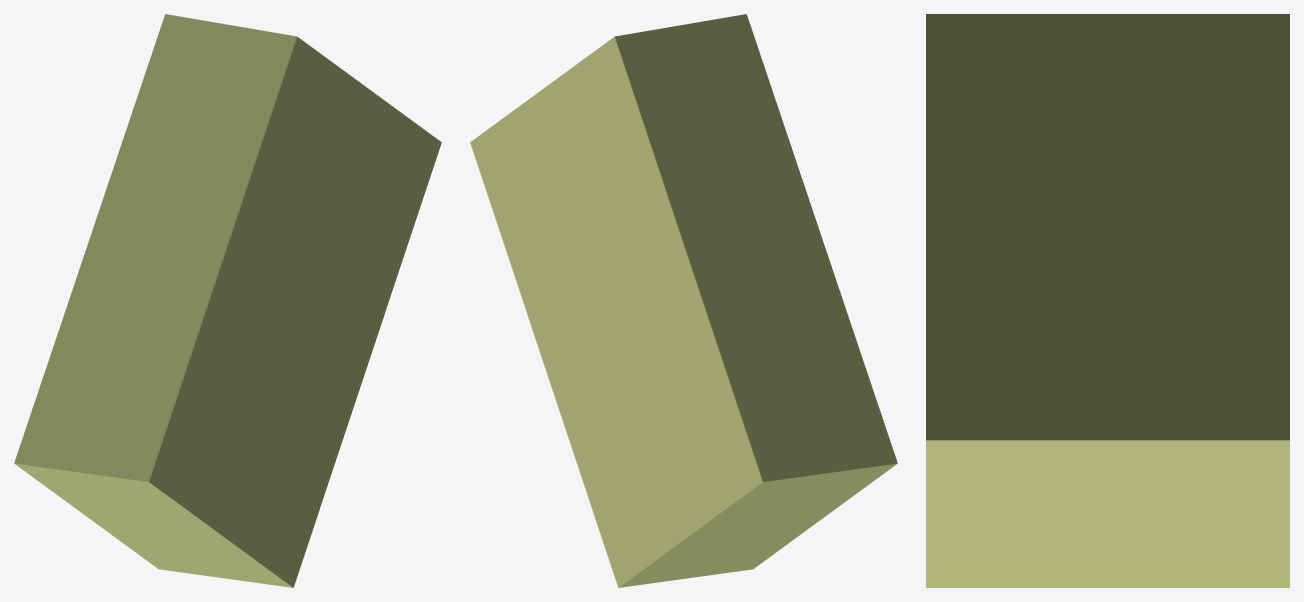
3 views of the same model, side by side, from view 1: azimuth 30°, elevation 25°; view 2: azimuth 150°, elevation 25°; view 3: azimuth 270°, elevation 25° (orthographic). The views are drawn at different scales.
Parts seen in each view (by area): view 1: 0_1_3_2_2_1_1_3_1_2; view 2: 0_1_3_2_2_1_1_3_1_2; view 3: 0_1_3_2_2_1_1_3_1_2.
Part boxes in pixels (left/top/right/bottom): 0_1_3_2_2_1_1_3_1_2: left=14, top=14, right=441, bottom=587; 0_1_3_2_2_1_1_3_1_2: left=470, top=14, right=897, bottom=587; 0_1_3_2_2_1_1_3_1_2: left=926, top=14, right=1289, bottom=587.
Size of the model in its own units: 10.18 by 15.94 by 9.
